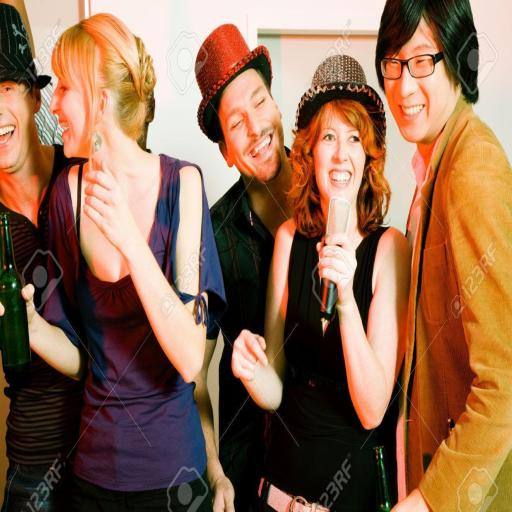person: (29, 14, 224, 511), (233, 55, 410, 511), (376, 0, 511, 511), (196, 25, 291, 511), (0, 3, 72, 310)
